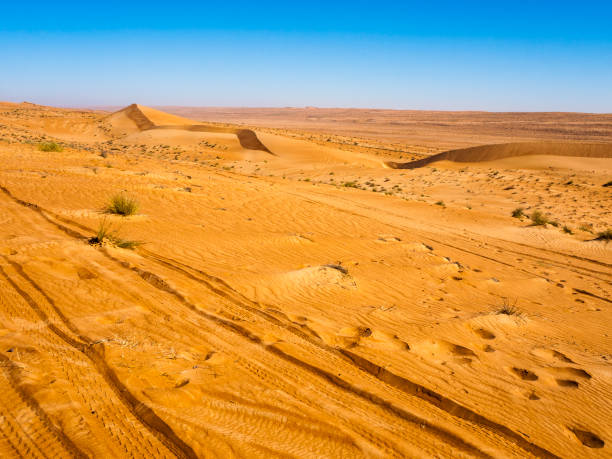vehicle_track: (139, 249, 555, 456), (144, 251, 555, 456), (101, 249, 487, 456), (104, 251, 488, 456), (102, 249, 414, 419), (0, 266, 196, 457), (0, 276, 164, 456), (303, 365, 486, 456), (0, 353, 86, 457), (284, 191, 406, 230), (286, 192, 405, 217)
